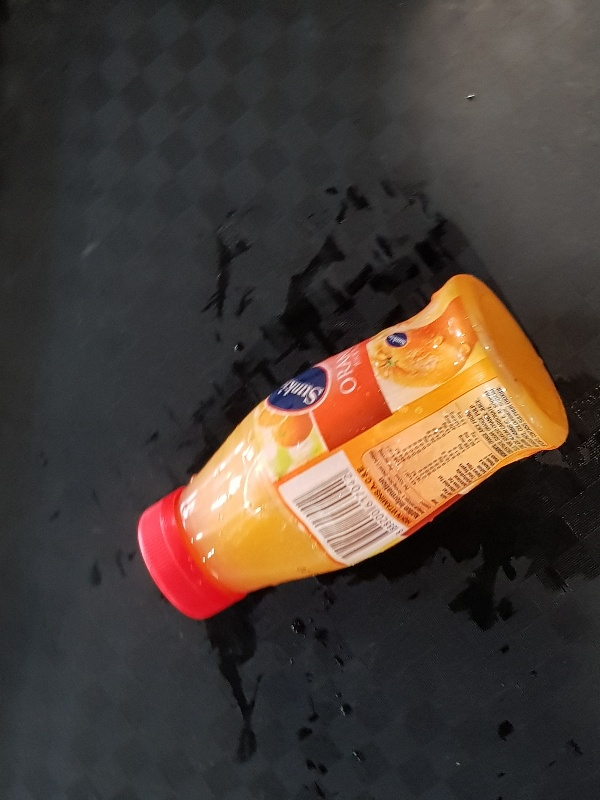Sunkist Orange Juice Drink: (135, 271, 569, 620)
